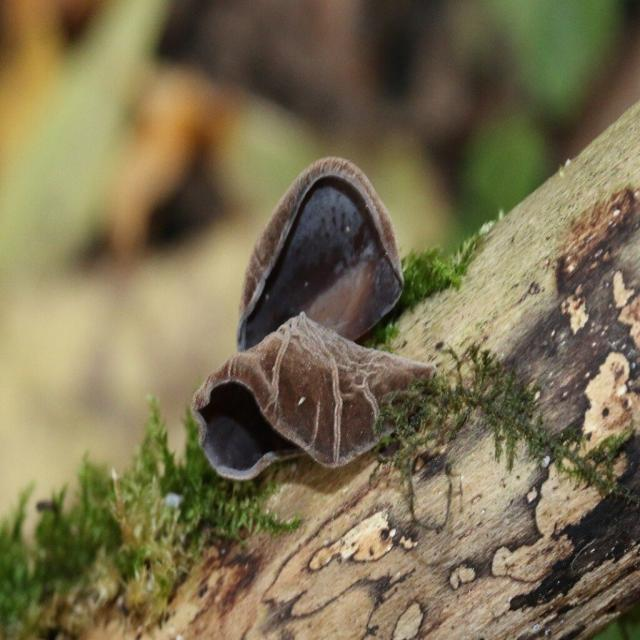Matang: (180, 314, 444, 482), (226, 150, 414, 344)
